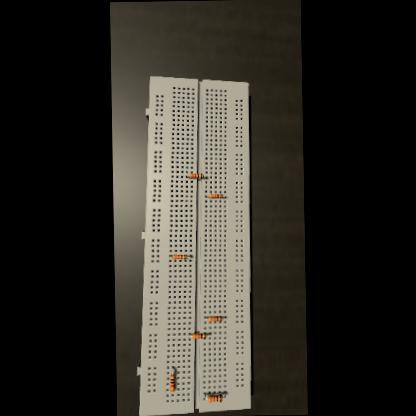breadboard: (131, 74, 254, 416)
resistor: (207, 394, 222, 402), (168, 374, 173, 392), (208, 316, 222, 322), (192, 332, 206, 338), (188, 172, 202, 178), (172, 254, 186, 259), (210, 194, 223, 198)
wire: (222, 392, 225, 398), (204, 392, 207, 398), (206, 332, 210, 336), (204, 316, 208, 320), (222, 315, 224, 318), (203, 176, 206, 178), (189, 333, 191, 336), (186, 176, 188, 178), (188, 254, 190, 256), (170, 254, 172, 256), (223, 196, 225, 197), (206, 196, 209, 196), (172, 366, 172, 375)
